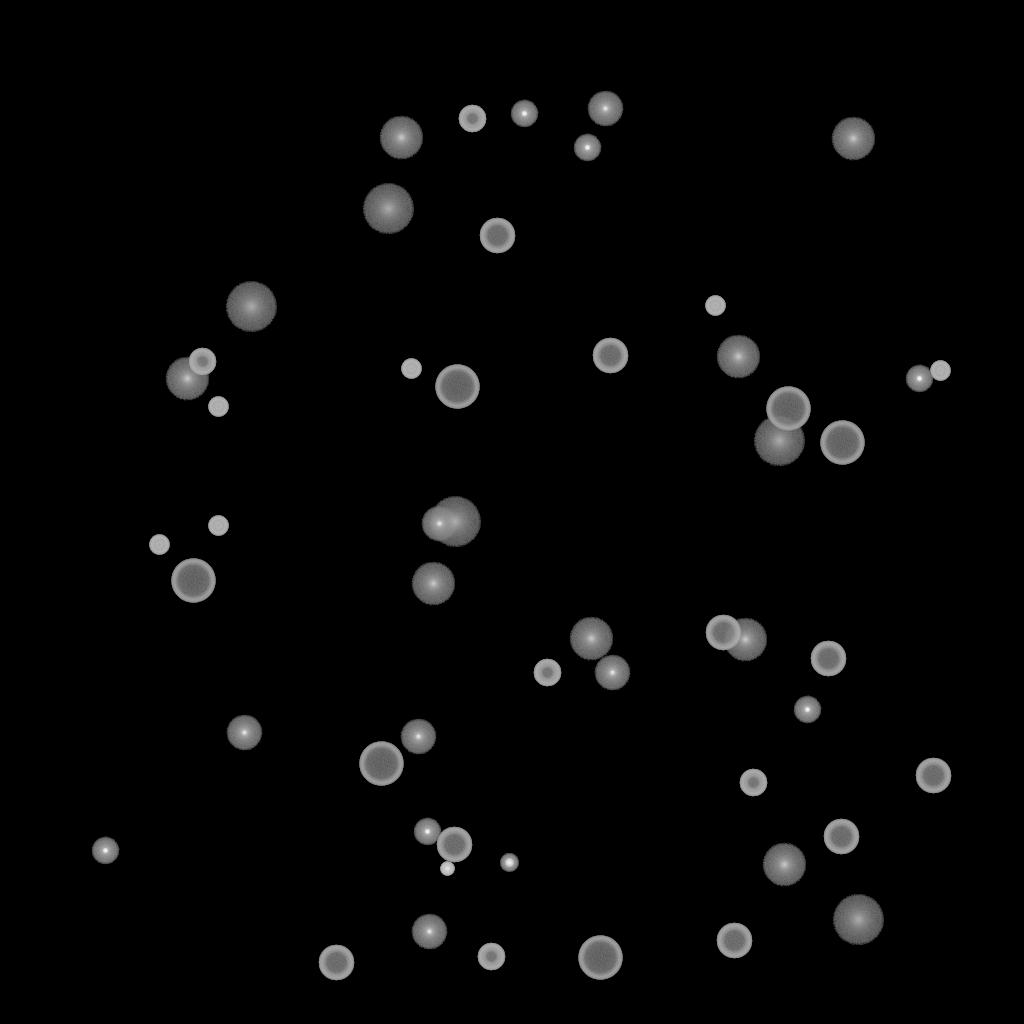depth:-10: (510, 100, 538, 128), (413, 818, 441, 846), (905, 365, 933, 393), (573, 134, 601, 162), (793, 696, 821, 724), (91, 837, 119, 865)
depth:-20: (500, 854, 518, 872)
depth:-30: (440, 862, 454, 876)
depth:-40: (930, 361, 950, 381), (149, 535, 169, 555), (705, 296, 725, 316), (208, 516, 228, 536), (401, 359, 421, 379), (208, 397, 228, 417)
depth:-50: (477, 943, 505, 971), (739, 769, 767, 797), (533, 659, 561, 687), (458, 105, 486, 133), (188, 348, 216, 376)
depth:-60: (436, 827, 472, 863), (810, 641, 846, 677), (479, 218, 515, 254), (705, 615, 741, 651), (823, 819, 859, 855), (318, 945, 354, 981), (915, 758, 951, 794), (592, 338, 628, 374), (716, 923, 752, 959)
depth:-70: (359, 742, 403, 786), (766, 387, 810, 431), (578, 936, 622, 980), (435, 365, 479, 409), (171, 559, 215, 603), (820, 421, 864, 465)
depth:0: (226, 715, 262, 751), (587, 91, 623, 127), (411, 914, 447, 950), (421, 506, 457, 542), (594, 655, 630, 691), (400, 719, 436, 755)
depth:10: (165, 357, 209, 401), (379, 116, 423, 160), (716, 335, 760, 379), (723, 618, 767, 662), (569, 617, 613, 661), (831, 117, 875, 161), (411, 562, 455, 606), (762, 843, 806, 887)
depth:20: (225, 282, 277, 332), (753, 416, 805, 466), (362, 184, 414, 234), (832, 895, 884, 945), (429, 497, 481, 547)
